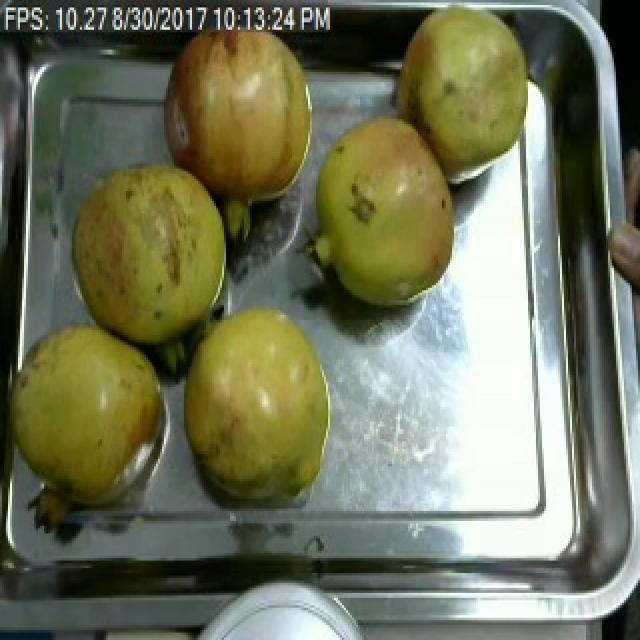fruit: (2, 305, 174, 528), (176, 290, 340, 514), (298, 104, 466, 320), (156, 10, 320, 221), (64, 154, 236, 352), (390, 2, 540, 178), (604, 206, 640, 307)
